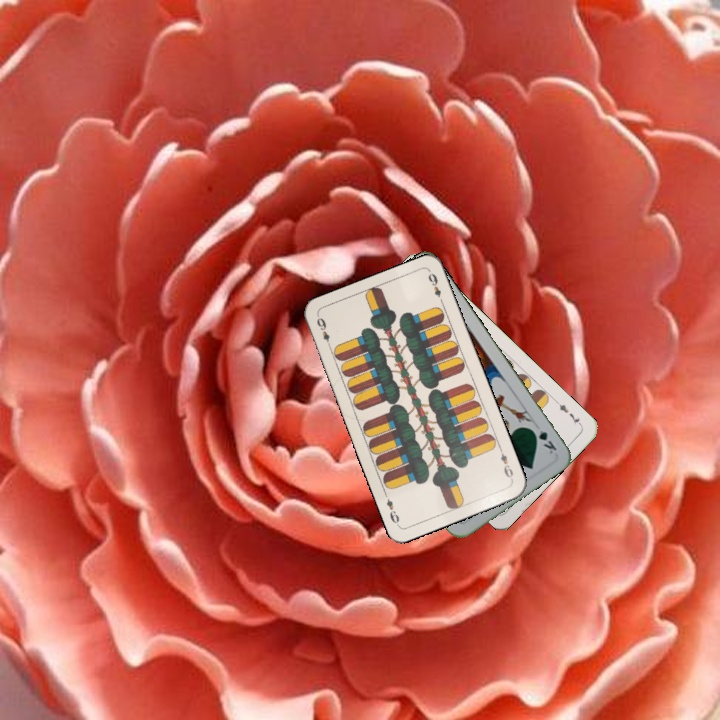E7: (552, 396, 584, 428)
E9: (495, 444, 516, 483), (313, 313, 334, 352)
GK: (527, 424, 559, 457)
